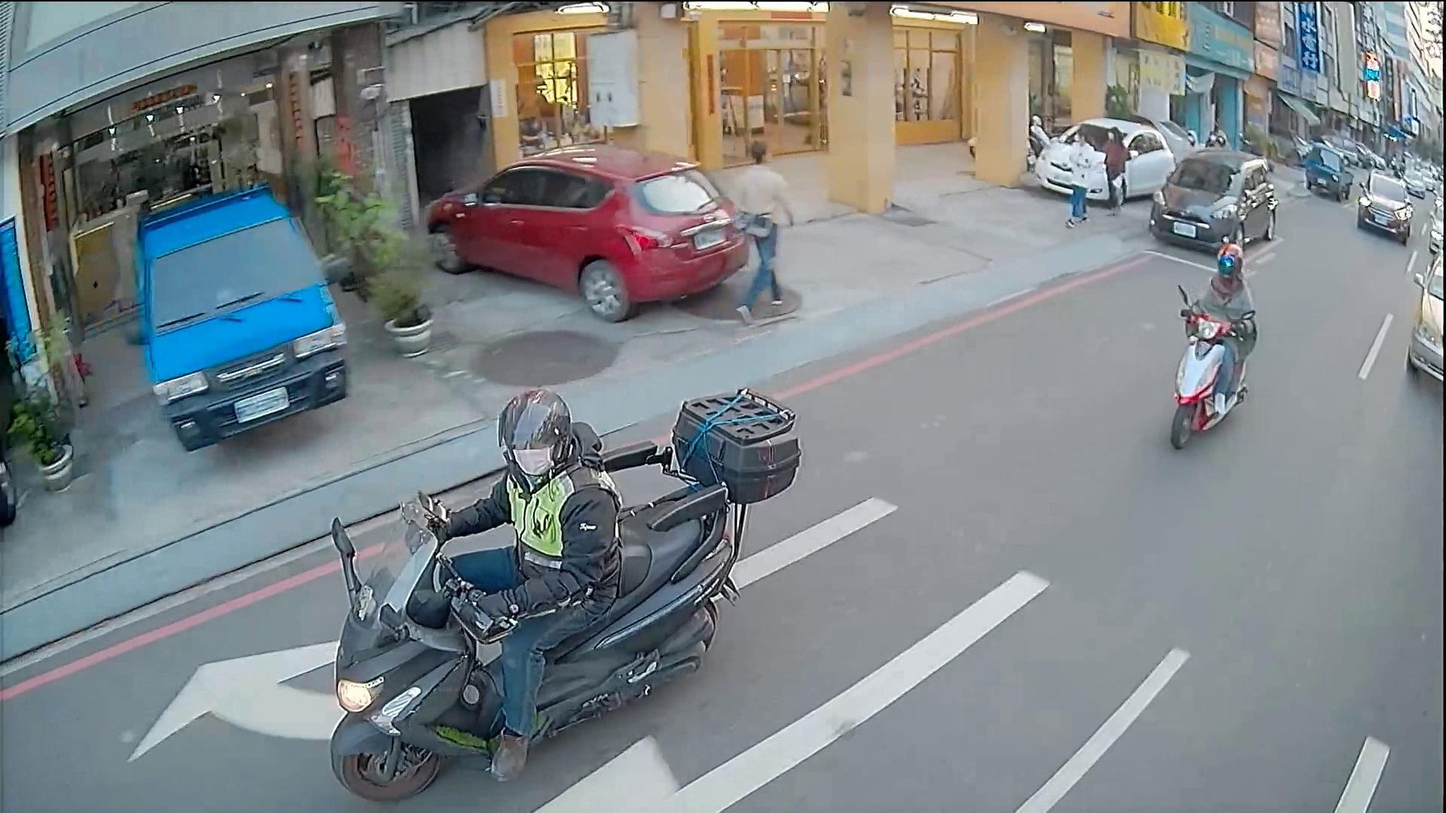person: (392, 378, 627, 784), (723, 131, 803, 330), (1175, 236, 1258, 423), (1095, 123, 1136, 218), (1060, 125, 1095, 233), (1180, 125, 1197, 151), (1203, 125, 1219, 148), (1214, 124, 1228, 148)
